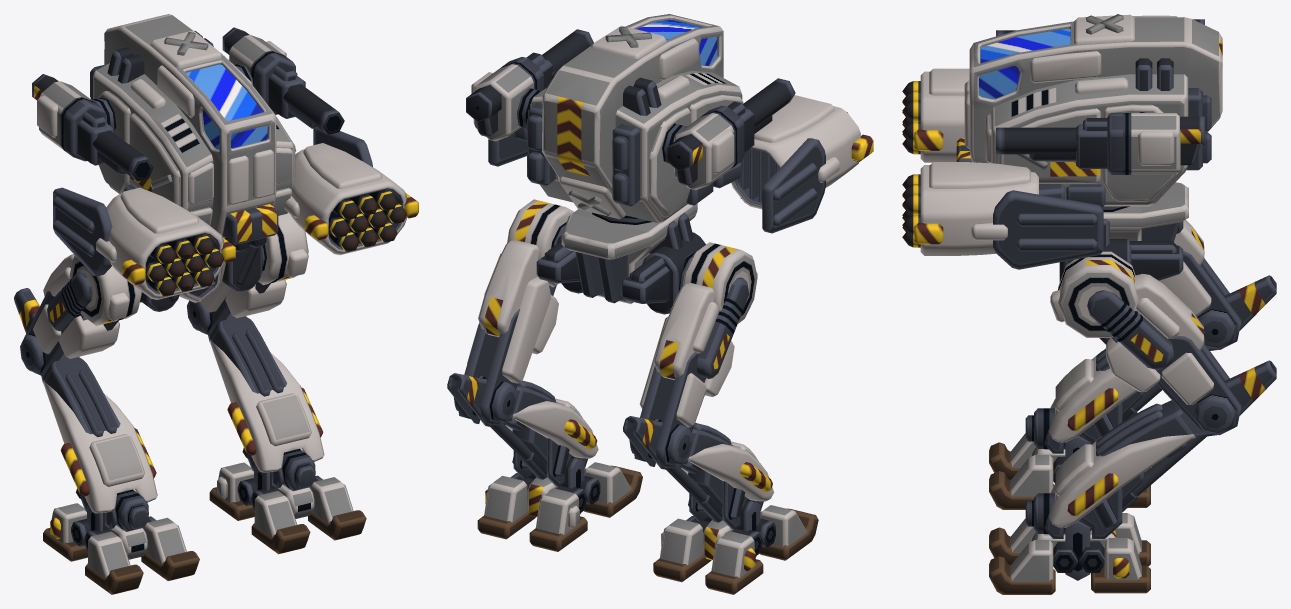
Rendered from StaticMechRocketPods.FBX.
3 renders of one model, left to right at view 1: azimuth 30°, elevation 25°; view 2: azimuth 150°, elevation 25°; view 3: azimuth 270°, elevation 25°, orthographic. The views are drawn at different scales.
Parts seen in each view (by area): view 1: Box003, Box007, Object006, Object004, Cylinder002, Object005, Object007, Object010, Cylinder001, Line001, Object008, Object011 (+2 smaller); view 2: Box003, Object005, Box007, Cylinder002, Line001, Cylinder001, Object006, Object004, Object008, Object011, Object007, Object010 (+2 smaller); view 3: Box003, Box007, Cylinder001, Object004, Cylinder002, Object006, Line001, Object007, Object008, Object010, Object005, Box002 (+1 smaller).
Part boxes in pixels (x1,y1,x2,y2): Box003: (90, 14, 296, 251); Box007: (53, 127, 418, 299); Object006: (14, 288, 157, 531); Object004: (187, 300, 324, 491); Cylinder002: (32, 27, 344, 181); Object005: (26, 254, 142, 375); Object007: (250, 475, 366, 554); Object010: (83, 516, 199, 594); Cylinder001: (200, 212, 308, 335); Line001: (141, 246, 262, 311); Object008: (209, 462, 257, 520); Object011: (43, 503, 90, 561); Box003: (517, 14, 743, 223); Object005: (633, 242, 757, 468); Box007: (488, 95, 873, 233); Cylinder002: (466, 29, 795, 189); Line001: (536, 203, 705, 314); Cylinder001: (457, 199, 573, 425); Object006: (623, 416, 774, 529); Object004: (447, 373, 598, 486); Object008: (477, 473, 587, 551); Object011: (653, 516, 763, 594); Object007: (580, 462, 642, 517); Object010: (755, 505, 818, 560); Box003: (956, 14, 1222, 207); Box007: (902, 68, 1103, 269); Cylinder001: (1050, 251, 1241, 435); Object004: (1025, 360, 1276, 538); Cylinder002: (996, 15, 1204, 174); Object006: (1025, 275, 1276, 453); Line001: (1059, 182, 1188, 281); Object007: (989, 518, 1077, 594); Object008: (1079, 513, 1150, 593); Object010: (989, 433, 1065, 509); Object005: (1159, 220, 1241, 349); Box002: (1032, 519, 1115, 580).
Size of the model in its own units: 8.48 by 13.78 by 9.17.
1 material, 1 textured.
